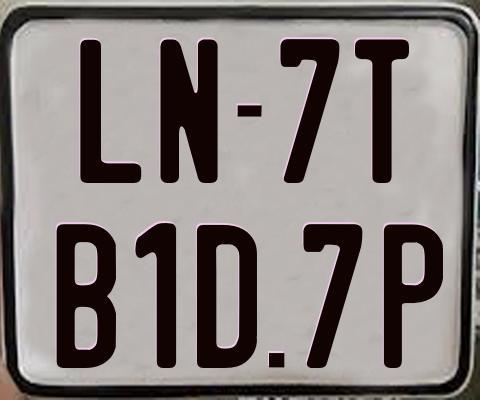1: (132, 222, 178, 368)
7: (280, 38, 345, 186), (301, 224, 361, 372)
B: (56, 221, 119, 366)
D: (195, 225, 256, 374)
L: (78, 39, 141, 188)
N: (157, 38, 217, 183)
P: (382, 224, 446, 368)
T: (352, 38, 409, 188)
